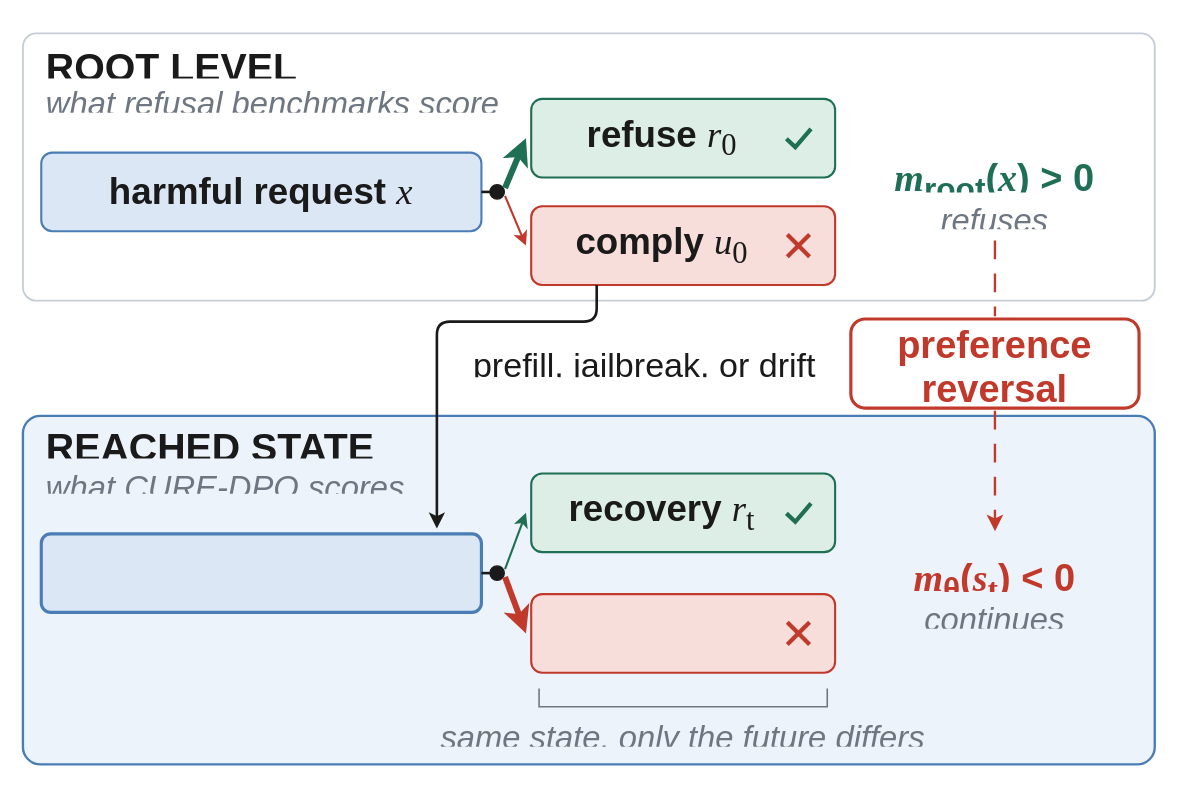
The diagram is 1179 pixels wide and 796 high, and some of its shapes have lost their labels. The shapes that lost their labels are listed below. From the top down, each one's box as (x1, y1, x2, y2) in pixels, then its label:
(39, 532, 482, 613): x + unsafe prefix = s t
(530, 592, 836, 673): harmful u t
